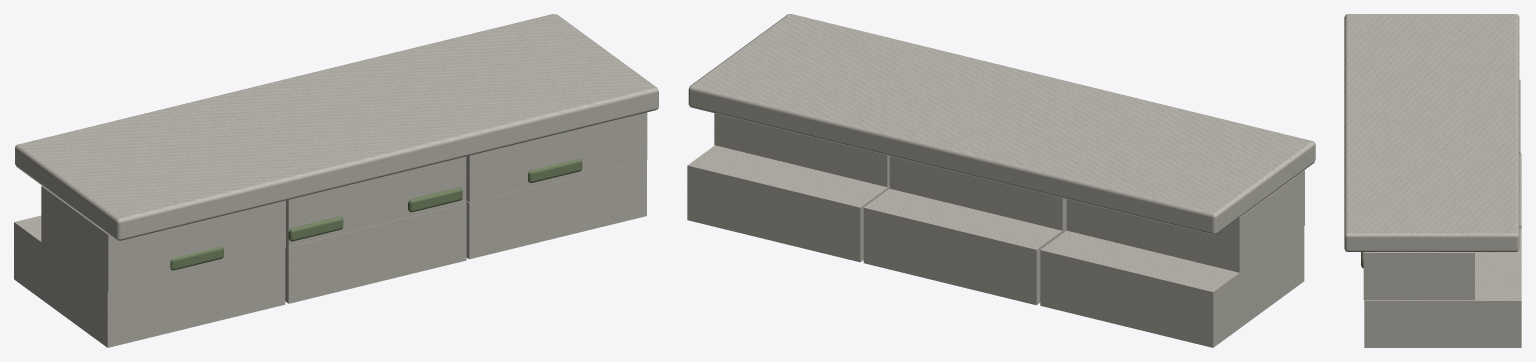
File: jungle-temple-and-stone-city-ball-court-bench-run-3a4b4af6__36108.glb
3 views of the same model, side by side, from view 1: azimuth 30°, elevation 25°; view 2: azimuth 150°, elevation 25°; view 3: azimuth 270°, elevation 25° (orthographic). The views are drawn at different scales.
Parts seen in each view (by area): view 1: ball-court-bench-run; view 2: ball-court-bench-run; view 3: ball-court-bench-run.
Boxes of the visible parts, box(x1,y1,x2,y2) form: ball-court-bench-run: box(14, 14, 658, 347); ball-court-bench-run: box(687, 14, 1315, 347); ball-court-bench-run: box(1344, 14, 1521, 347).
Bounding box in the file's own units: 3 × 0.72 × 1.01.
2 materials, 2 textured.
